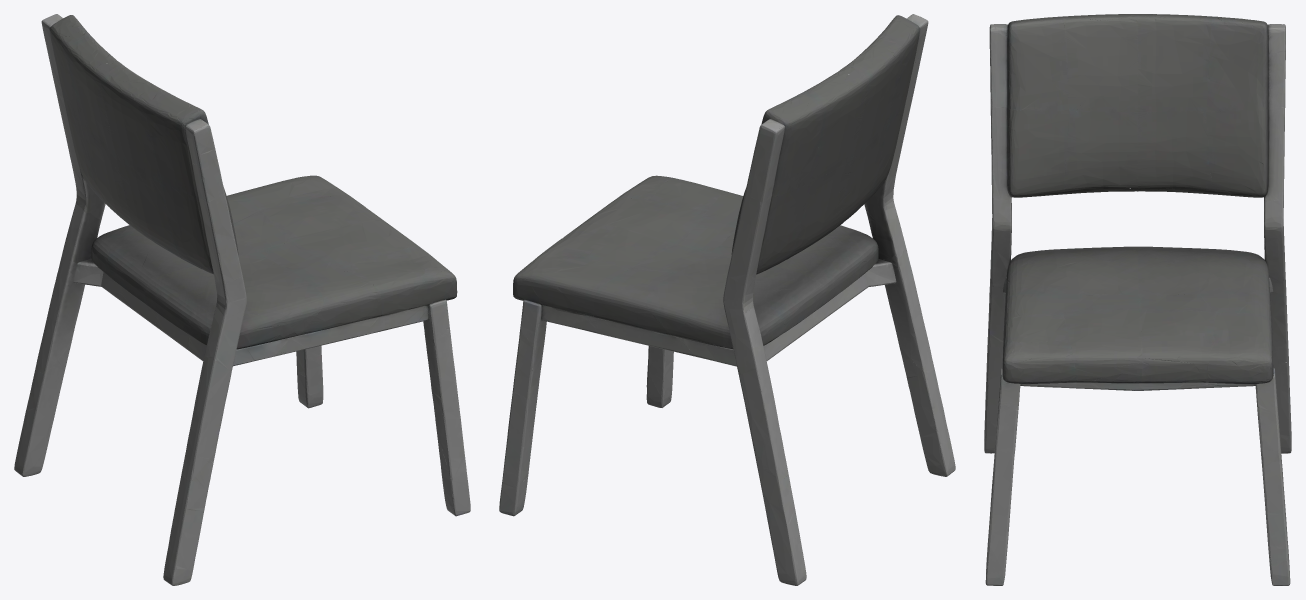
File: chair-optimized.glb
3 renders of one model, left to right at view 1: azimuth 30°, elevation 25°; view 2: azimuth 150°, elevation 25°; view 3: azimuth 270°, elevation 25°, orthographic. The views are drawn at different scales.
Parts seen in each view (by area): view 1: tripo_node_433aac52-b2bc-4699-b0b2-52a17fbea43a; view 2: tripo_node_433aac52-b2bc-4699-b0b2-52a17fbea43a; view 3: tripo_node_433aac52-b2bc-4699-b0b2-52a17fbea43a.
Part boxes in pixels (x1,y1,x2,y2): tripo_node_433aac52-b2bc-4699-b0b2-52a17fbea43a: (14,14,470,585); tripo_node_433aac52-b2bc-4699-b0b2-52a17fbea43a: (499,14,955,585); tripo_node_433aac52-b2bc-4699-b0b2-52a17fbea43a: (984,14,1291,585).
Bounding box in the file's own units: 0.6864 × 0.9996 × 0.6292.
Materials: 1 (1 with a texture image).
